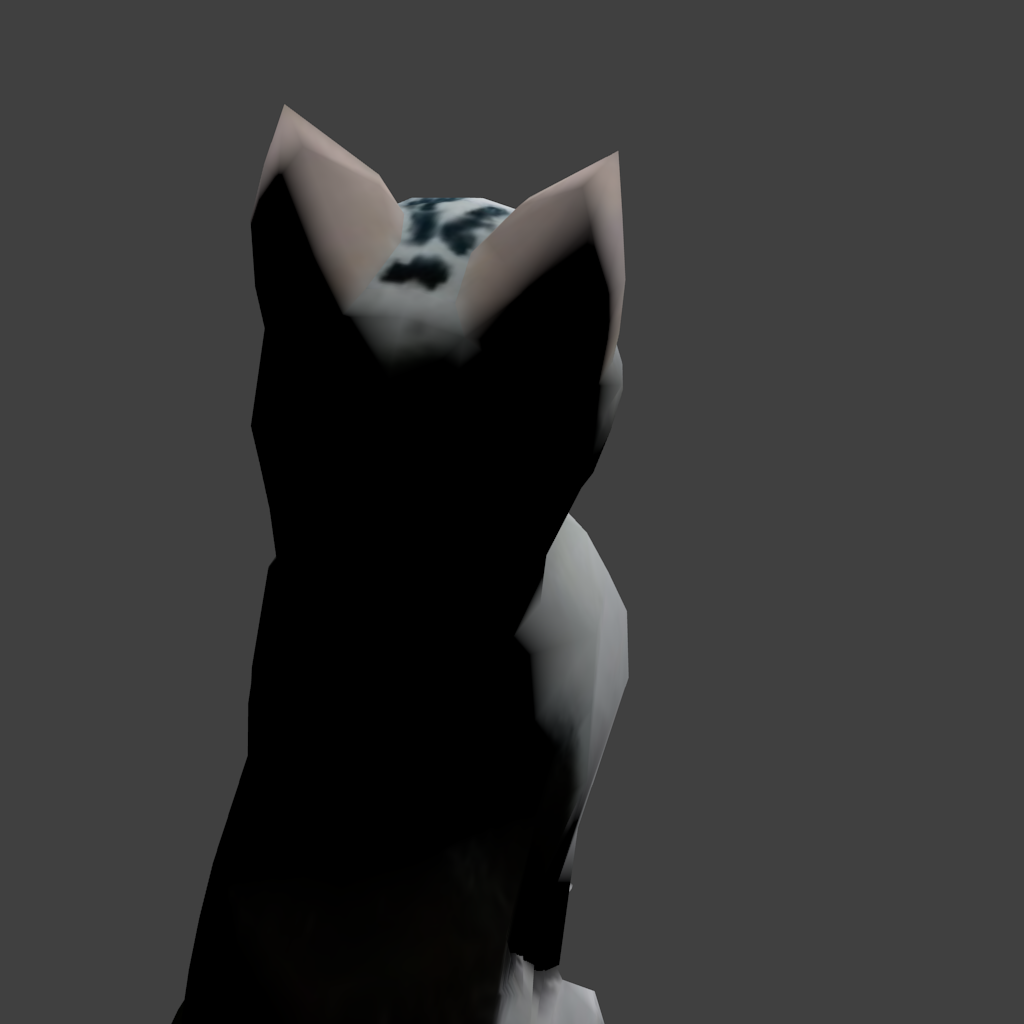Cat: (132, 104, 499, 920)
